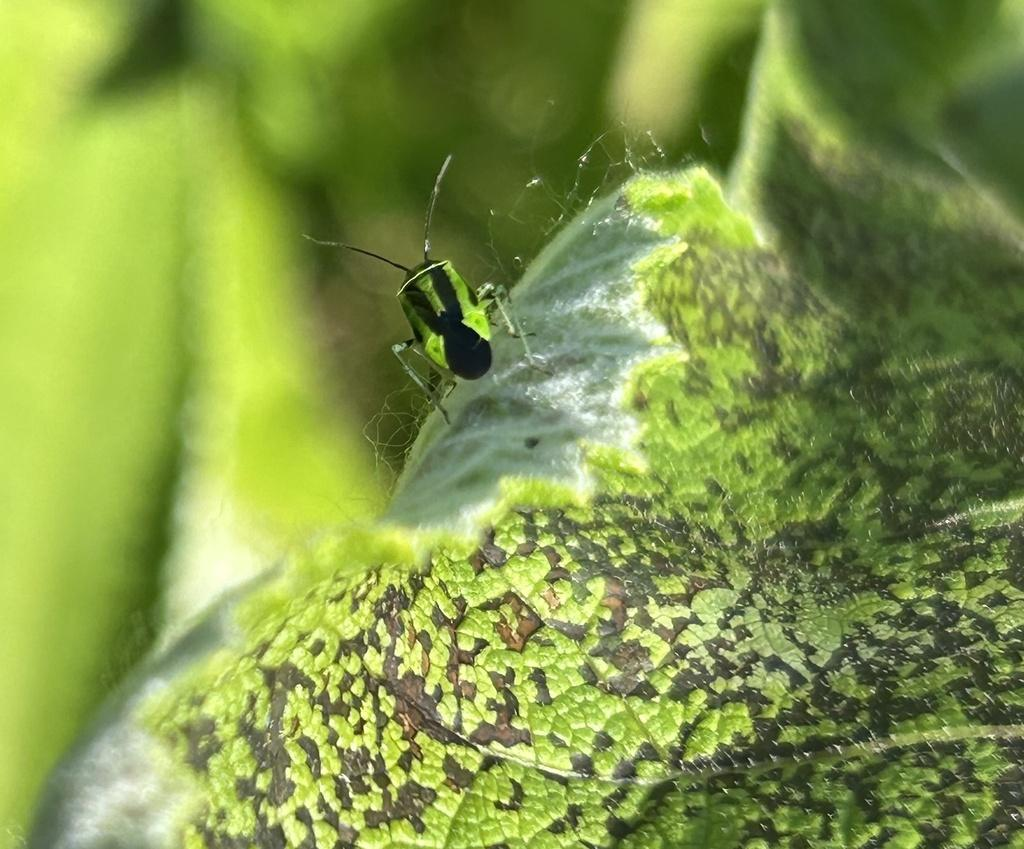plant_bugs: (260, 126, 575, 460)
